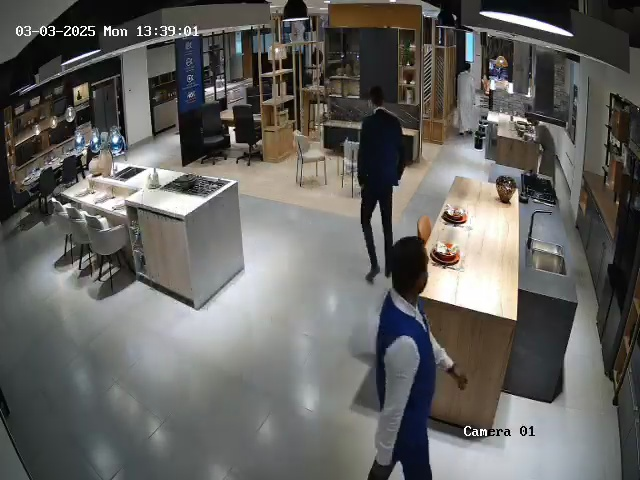employee: (367, 236, 467, 480), (357, 85, 406, 282)
male: (454, 49, 483, 140)
